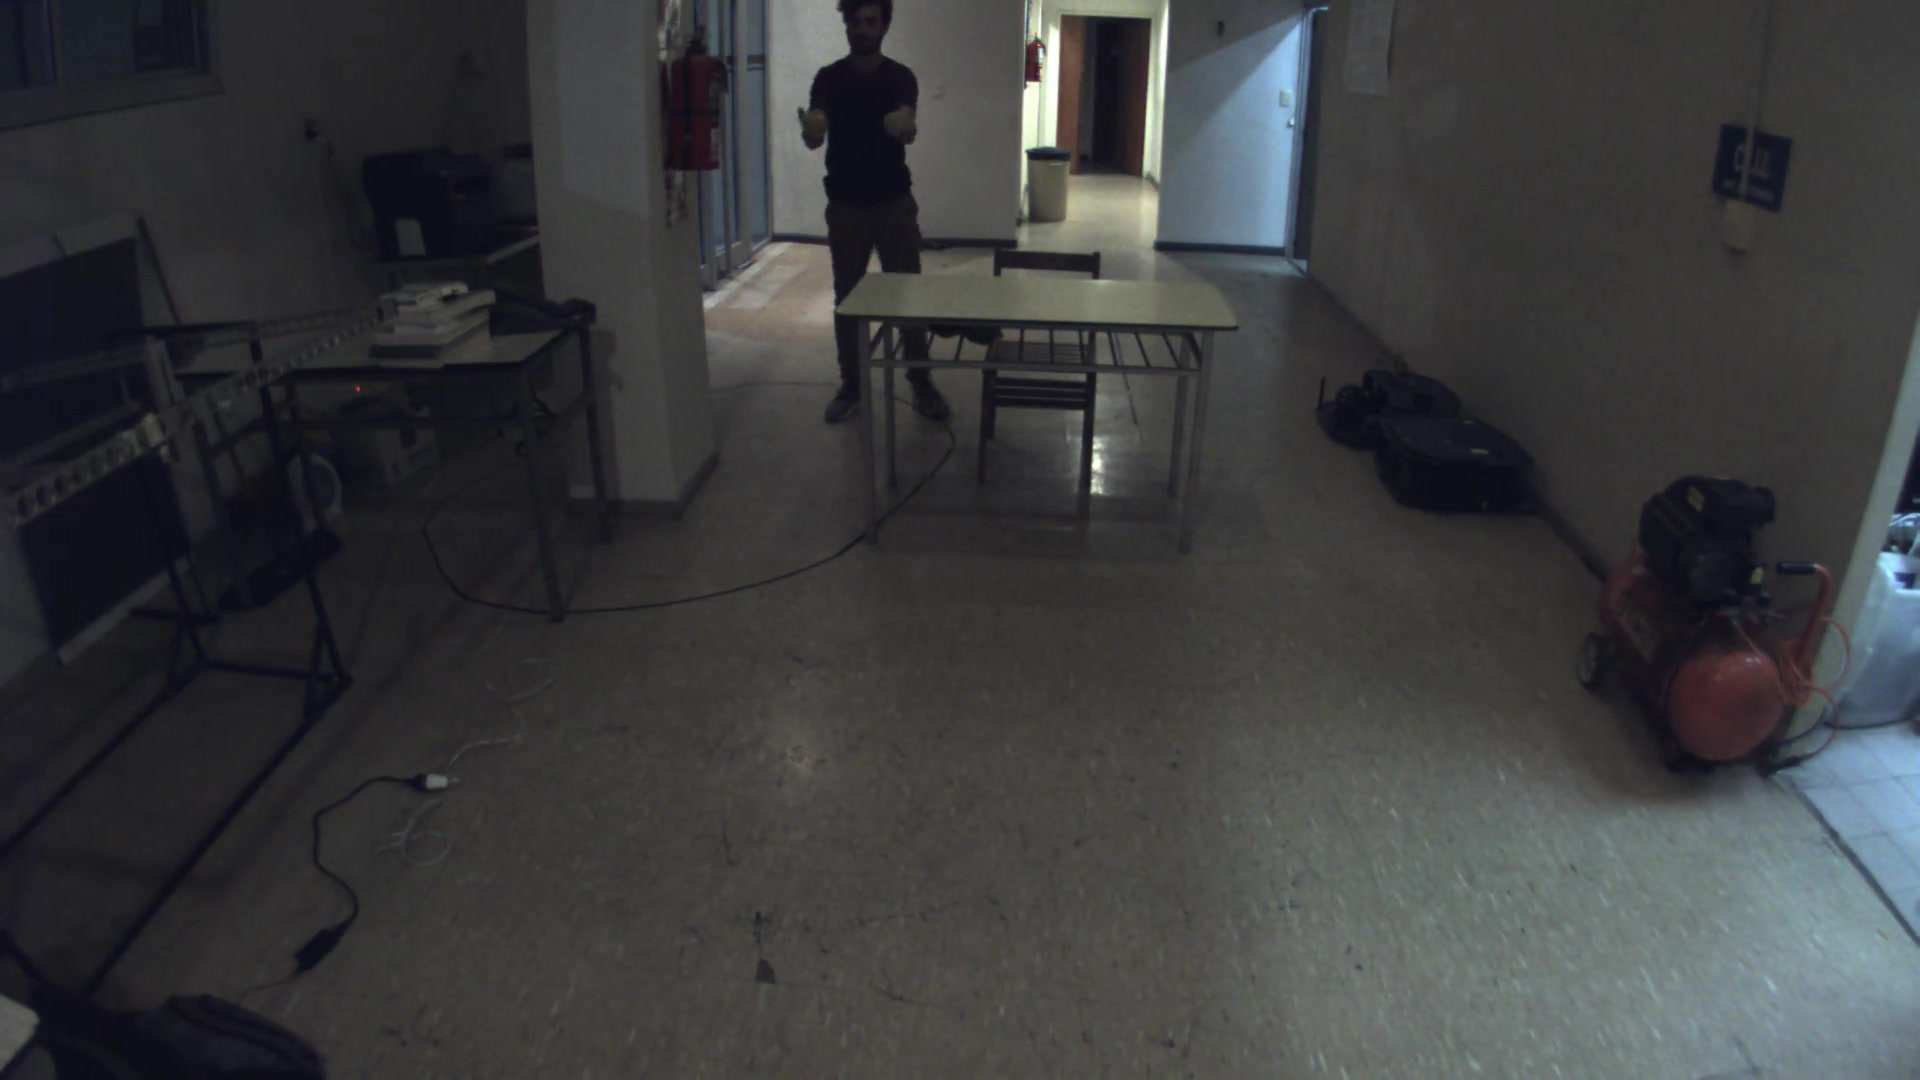hand: (791, 96, 841, 146), (881, 98, 926, 142)
